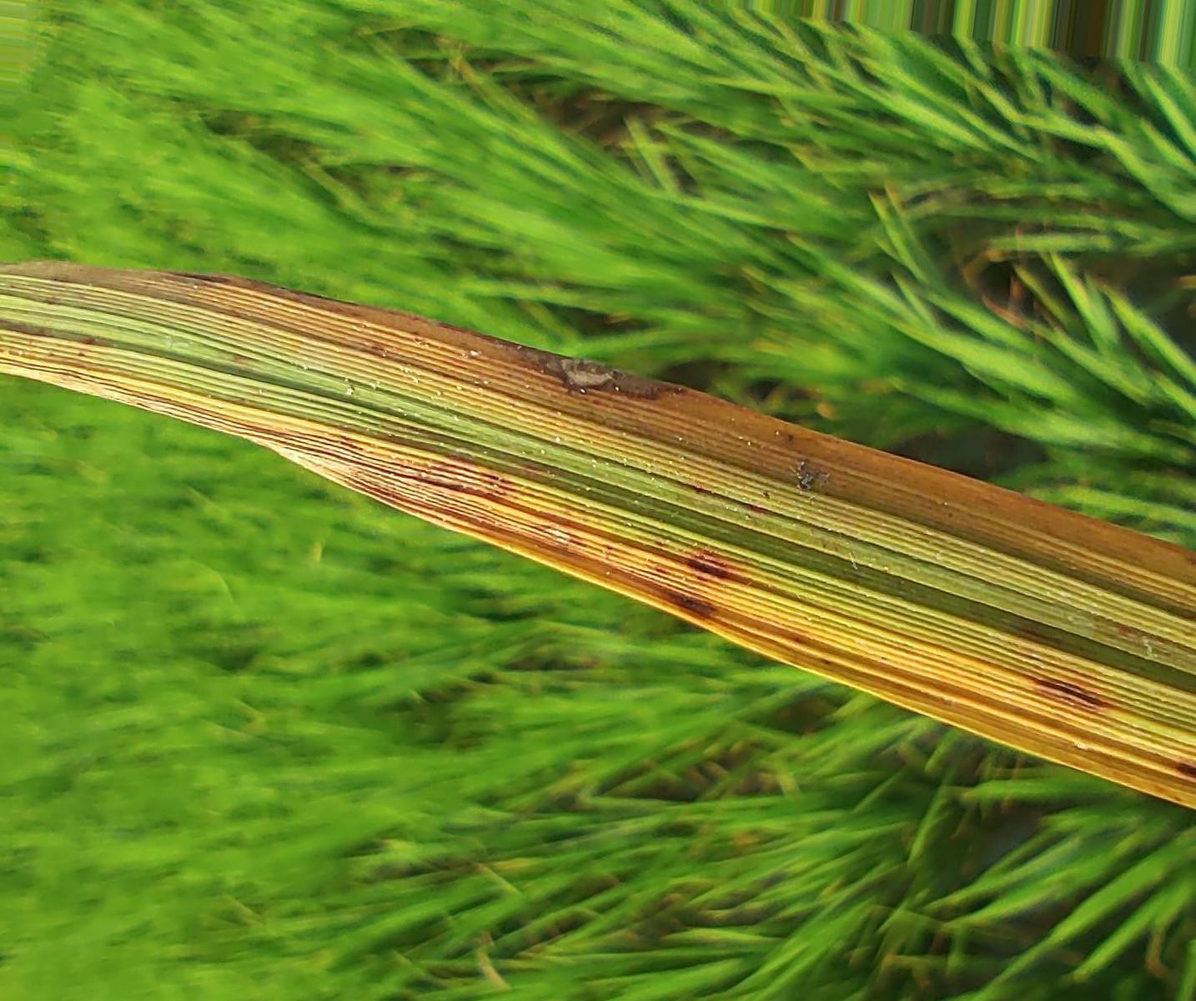LEAF: (0, 262, 1195, 808)
LEAF BLAST: (486, 338, 683, 400), (536, 525, 587, 547)
